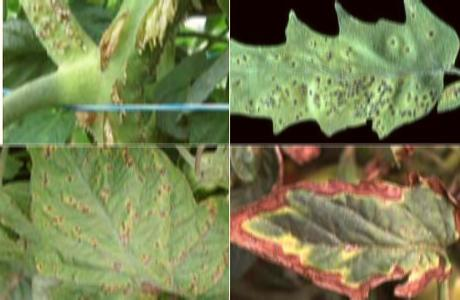Tomato leaf bacterial spot: (235, 156, 451, 294), (26, 151, 219, 300), (231, 9, 456, 135)
